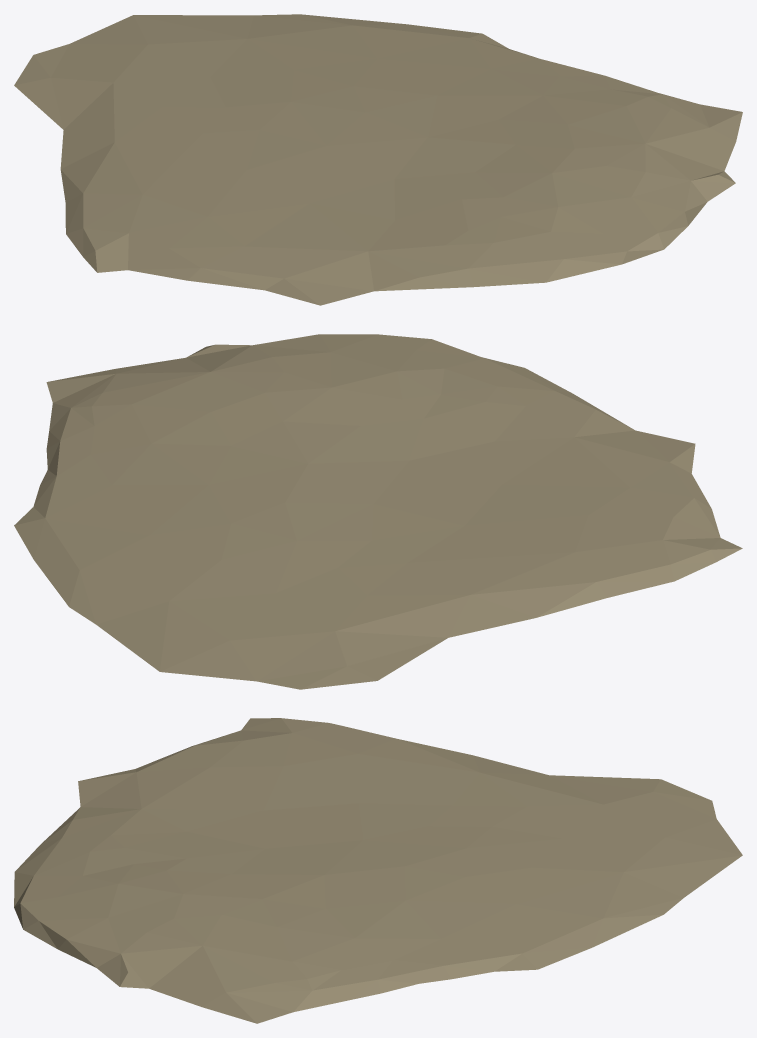
Rendered from Floor_Sand_lrg.fbx.
3 renders of one model, top to bottom at view 1: azimuth 30°, elevation 25°; view 2: azimuth 150°, elevation 25°; view 3: azimuth 270°, elevation 25°, orthographic. The views are drawn at different scales.
Visible parts, largest first — view 1: Floor_Sand_lrg; view 2: Floor_Sand_lrg; view 3: Floor_Sand_lrg.
Boxes of the visible parts, <box> form: Floor_Sand_lrg: <box>14,14,742,305</box>; Floor_Sand_lrg: <box>14,334,742,689</box>; Floor_Sand_lrg: <box>14,718,742,1023</box>.
Size of the model in its own units: 550 by 18.45 by 555.
